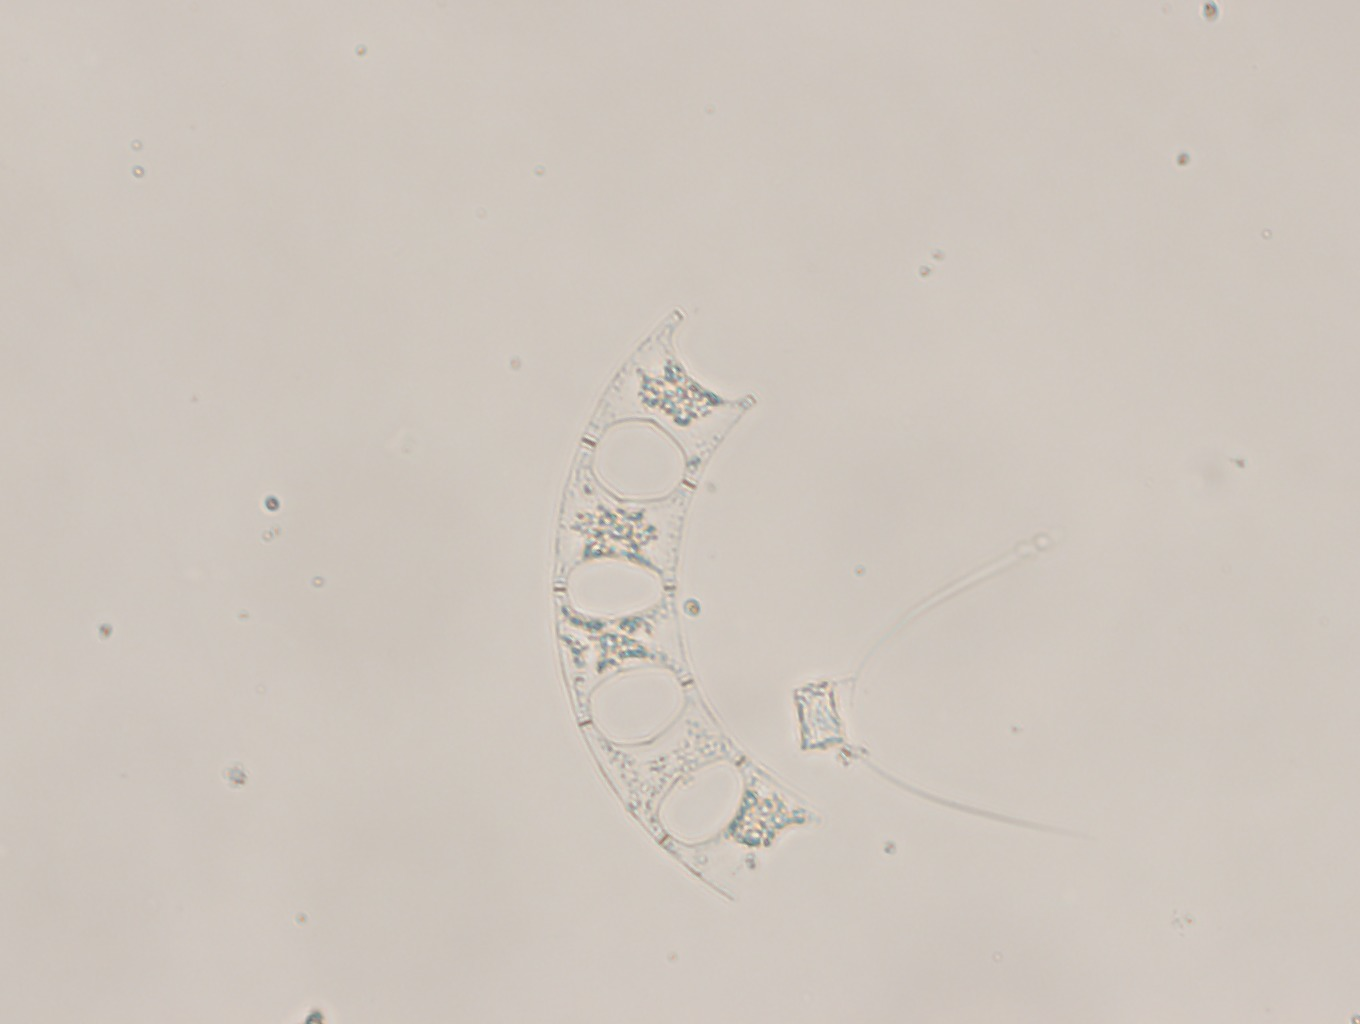chaetoceros: (791, 511, 1103, 865)
eucampia: (546, 303, 815, 909)
